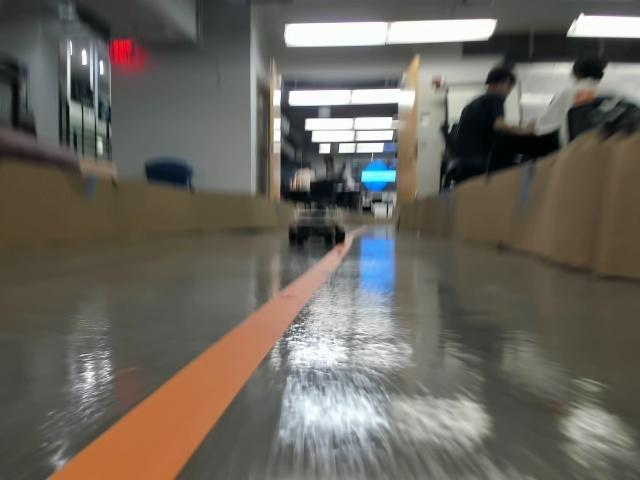Car: (288, 202, 345, 243)
